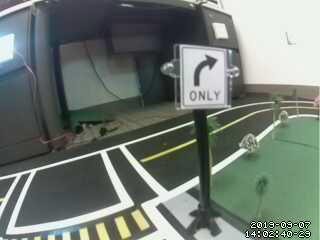Right_only_sign: (183, 44, 234, 105)
